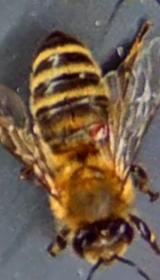varroa_mite: (74, 115, 116, 146)
